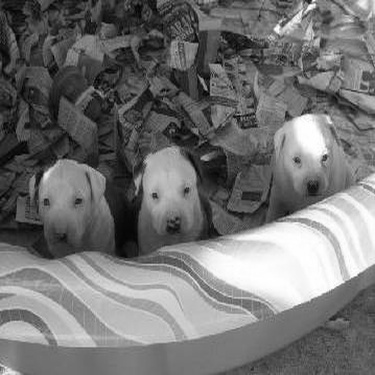dog: (262, 108, 359, 221), (126, 141, 214, 256), (28, 155, 119, 261)
